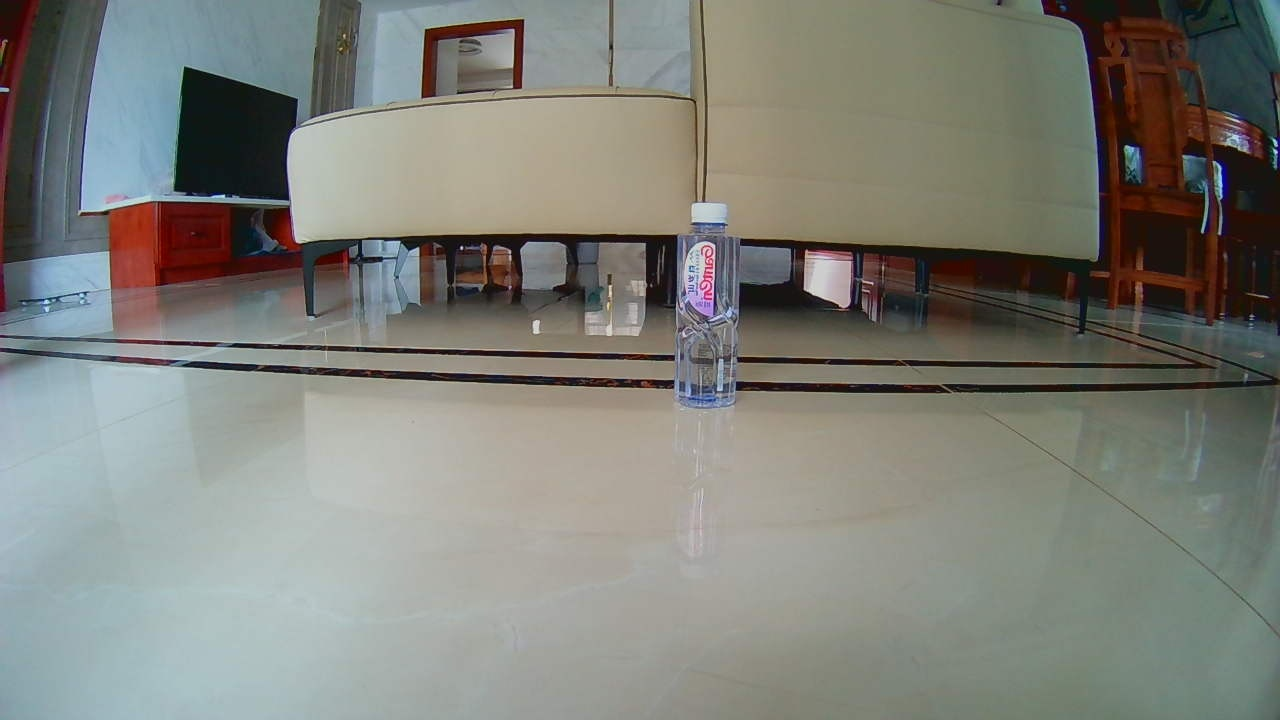water: (673, 201, 735, 410)
